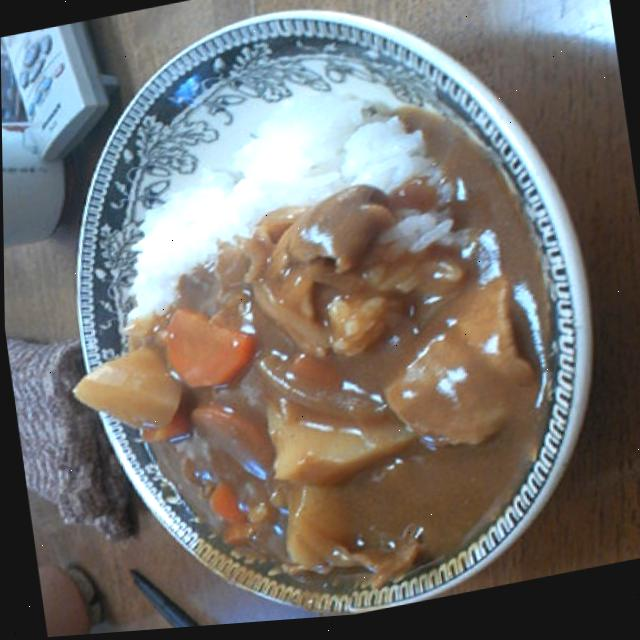牛肉菜式: (51, 0, 598, 637)
